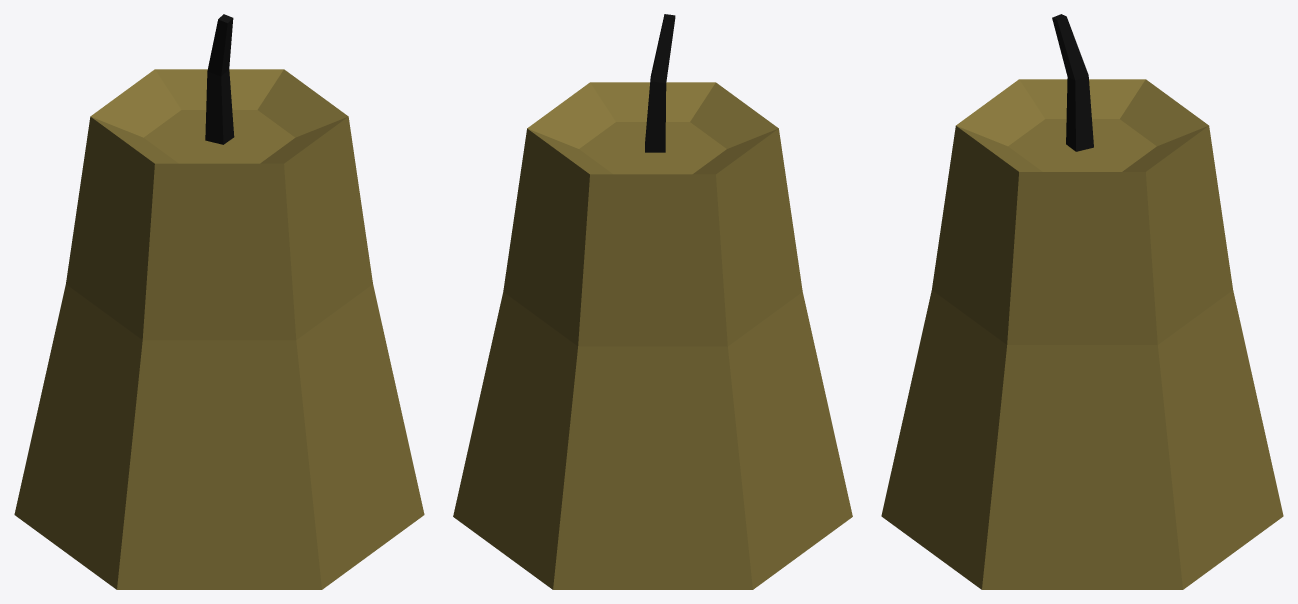
The model's file is candle_3.obj.
The picture shows the model from 3 angles, left to right: view 1: azimuth 30°, elevation 25°; view 2: azimuth 150°, elevation 25°; view 3: azimuth 270°, elevation 25°; orthographic projection. The views are drawn at different scales.
Parts seen in each view (by area): view 1: candle_3_Cylinder.006_candleYellow, candle_3_Cylinder.006_darkGrey; view 2: candle_3_Cylinder.006_candleYellow, candle_3_Cylinder.006_darkGrey; view 3: candle_3_Cylinder.006_candleYellow, candle_3_Cylinder.006_darkGrey.
Part boxes in pixels (x1=…): candle_3_Cylinder.006_candleYellow: x1=14, y1=69, x2=424, y2=589; candle_3_Cylinder.006_darkGrey: x1=205, y1=14, x2=234, y2=144; candle_3_Cylinder.006_candleYellow: x1=453, y1=82, x2=852, y2=589; candle_3_Cylinder.006_darkGrey: x1=645, y1=14, x2=675, y2=152; candle_3_Cylinder.006_candleYellow: x1=881, y1=79, x2=1283, y2=589; candle_3_Cylinder.006_darkGrey: x1=1052, y1=14, x2=1093, y2=151.
Bounding box in the file's own units: 0.1413 × 0.2229 × 0.1632.
